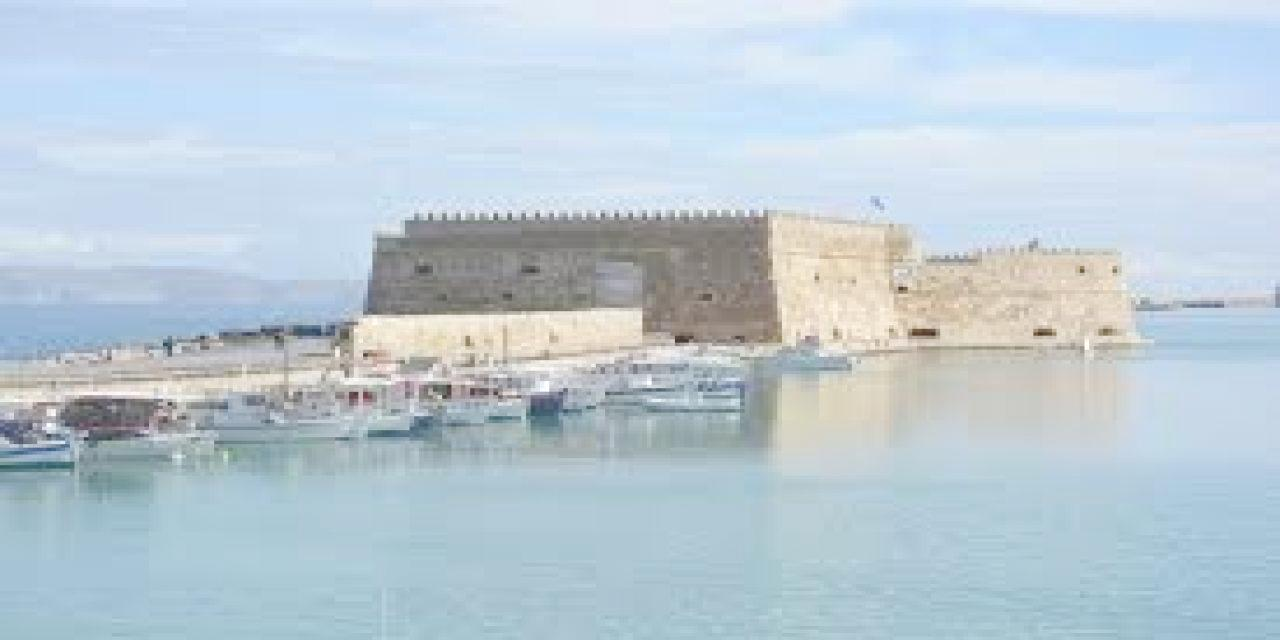Kules: (362, 200, 1161, 355)
